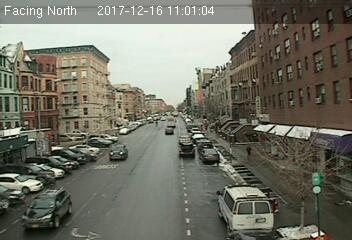car: (20, 186, 73, 228), (109, 143, 127, 161), (179, 140, 196, 159), (201, 148, 218, 162), (164, 126, 175, 135)
pedestrian: (245, 144, 253, 160)
police: (216, 180, 271, 234)
